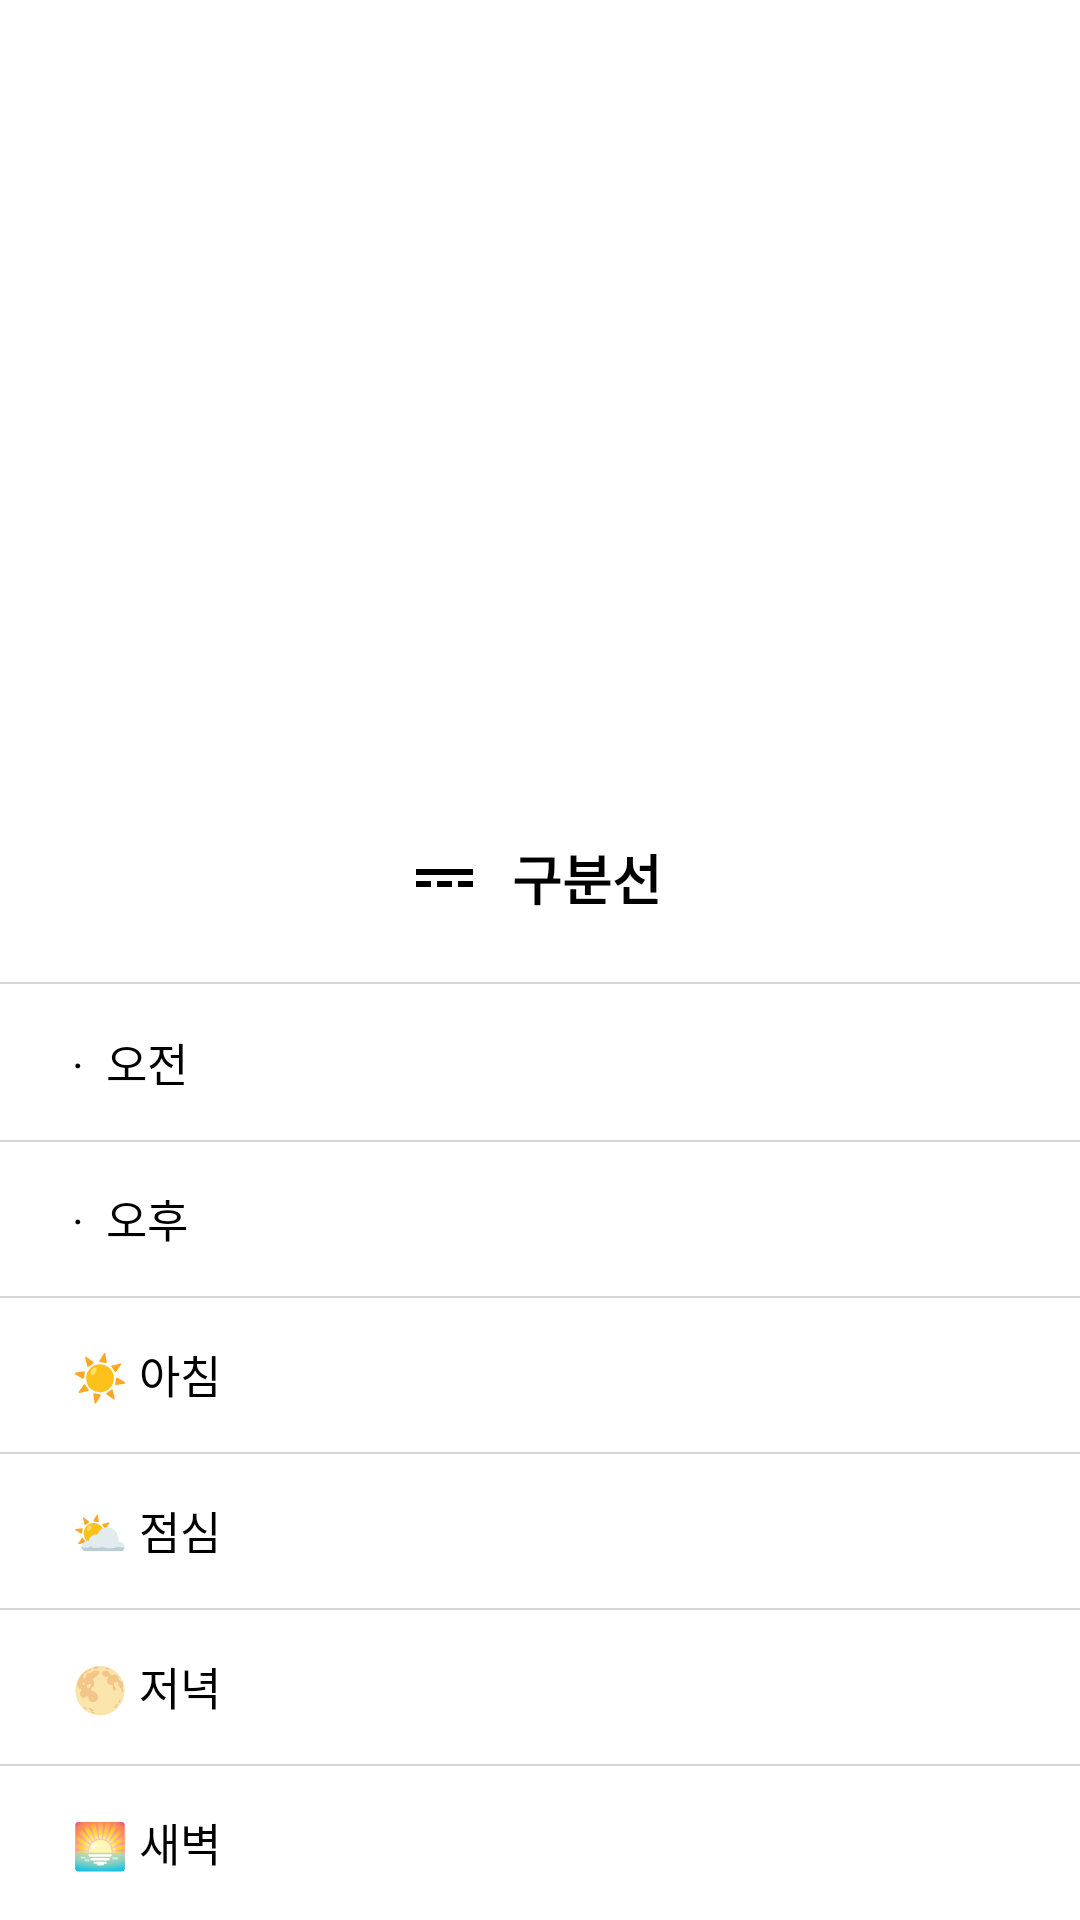

Locate icon controls on the screen. Image size 1080 × 1920, boxes as {"x1": x1, "y1": y1, "x2": x2, "y2": y2}.
go dividing line: {"x1": 416, "y1": 869, "x2": 473, "y2": 887}
